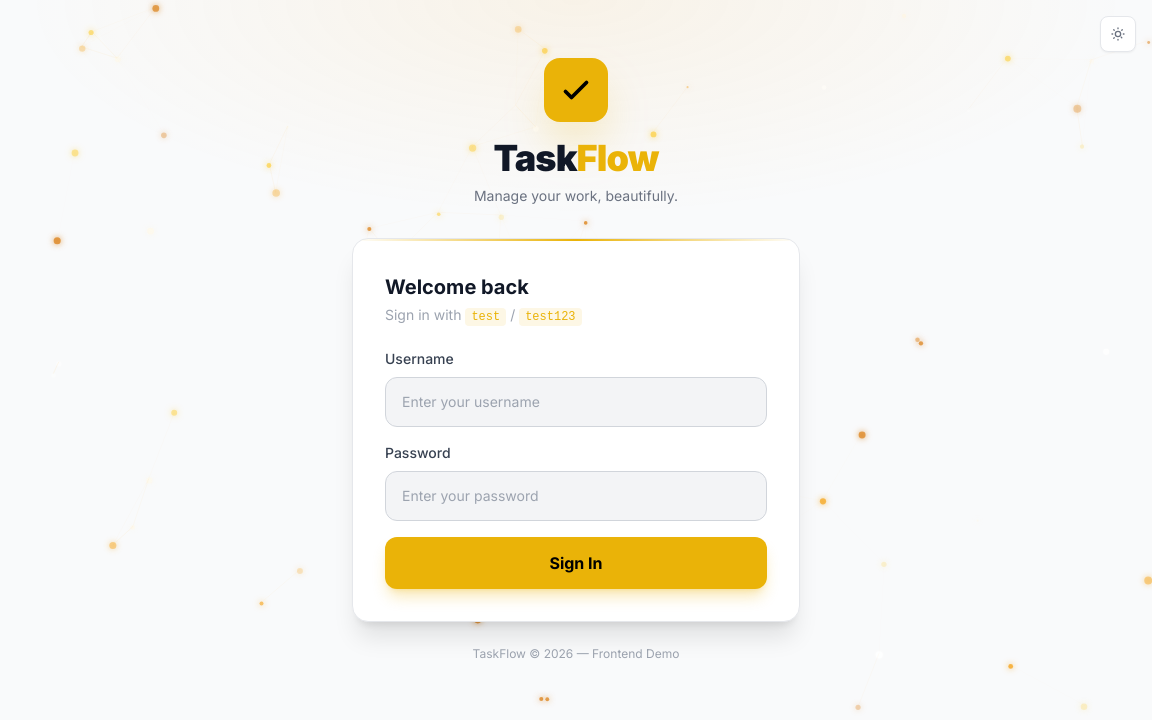
Test: LoginPage › shows error on wrong credentials
Type "wrong" into the field labelled "Username". click: (576, 402)
box: left=385, top=377, right=767, bottom=427
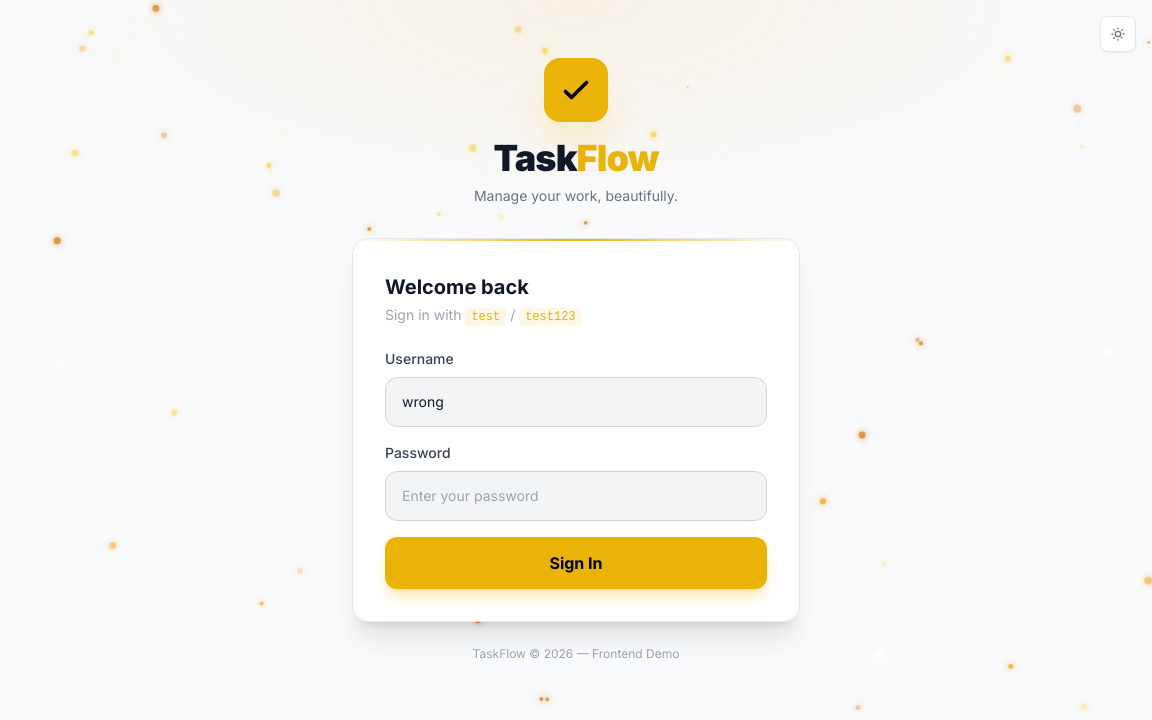
Type "wrong" into the password field labelled "Password". click: (576, 496)
box: left=385, top=471, right=767, bottom=521
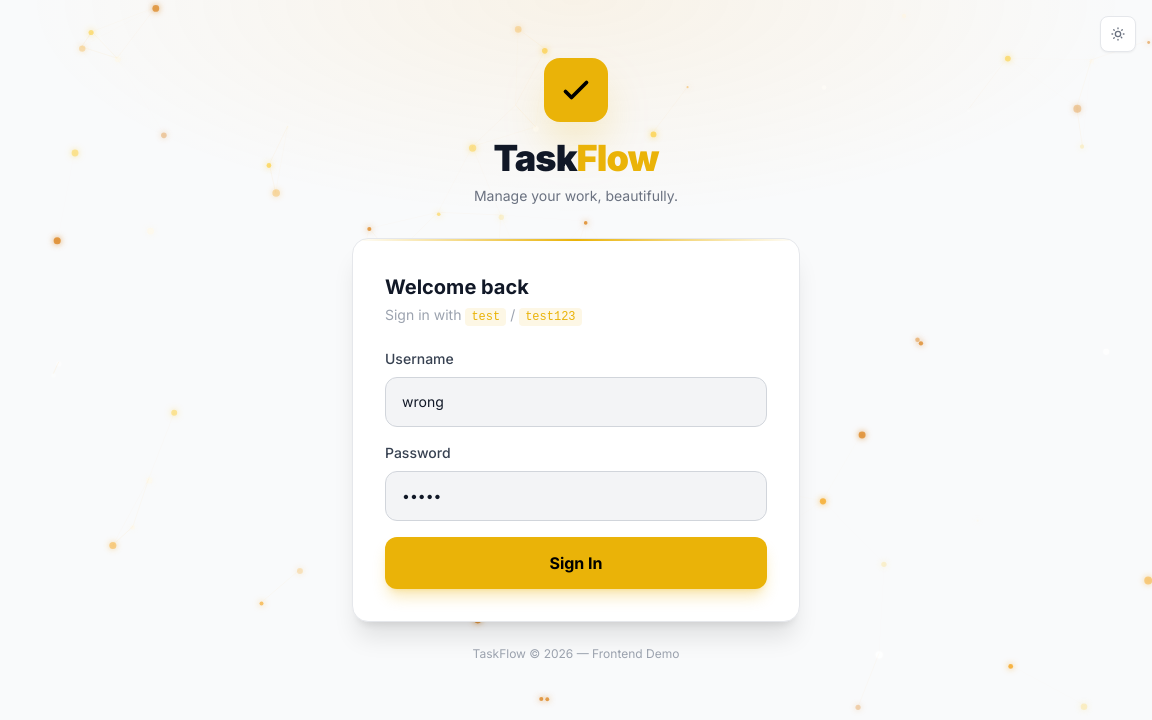
Click the button "Sign In". click: (576, 563)
box: left=385, top=537, right=767, bottom=589
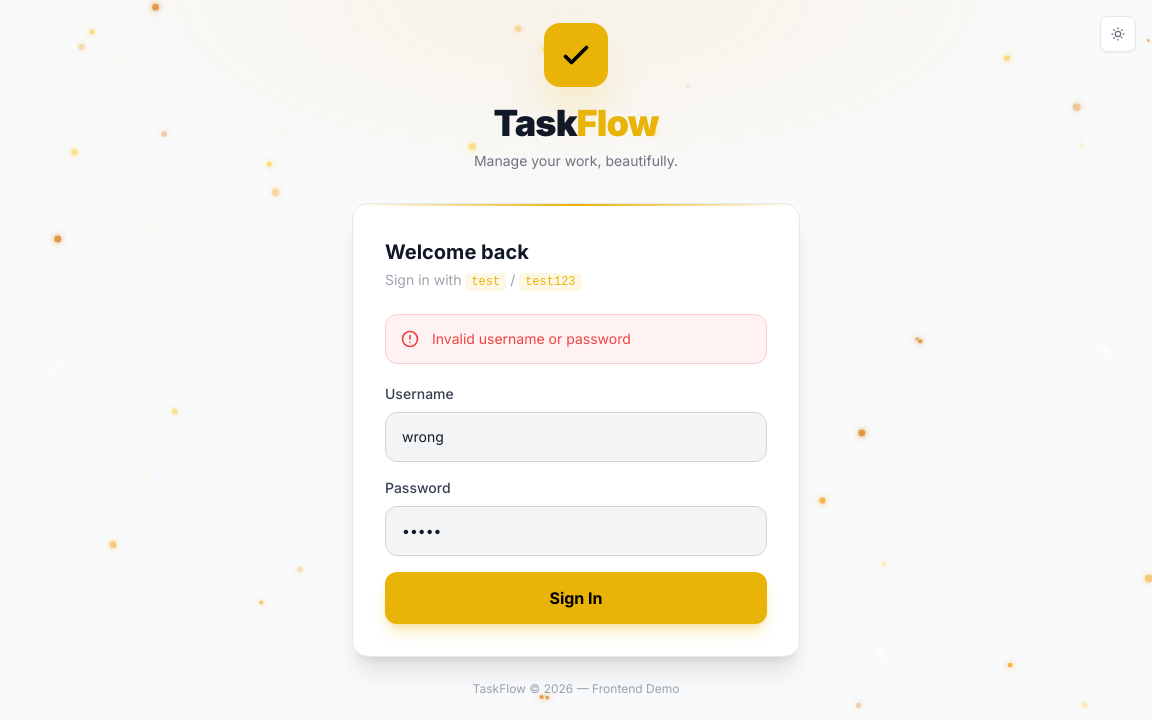
Result: the text "Invalid username or password" is shown at left=432, top=329, right=631, bottom=349
